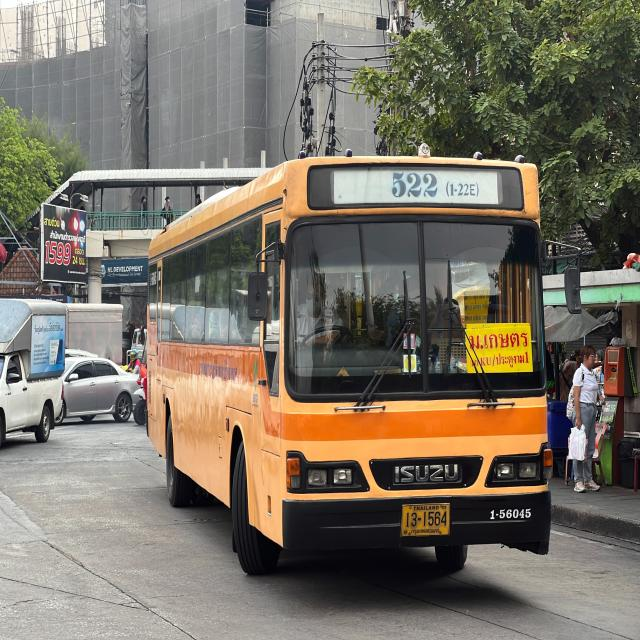BMTA-bus: (142, 139, 560, 583)
Bus-Line-Number: (387, 164, 484, 209)
Destination-Sign-Extra-Bus-Expressway: (463, 322, 534, 373)
